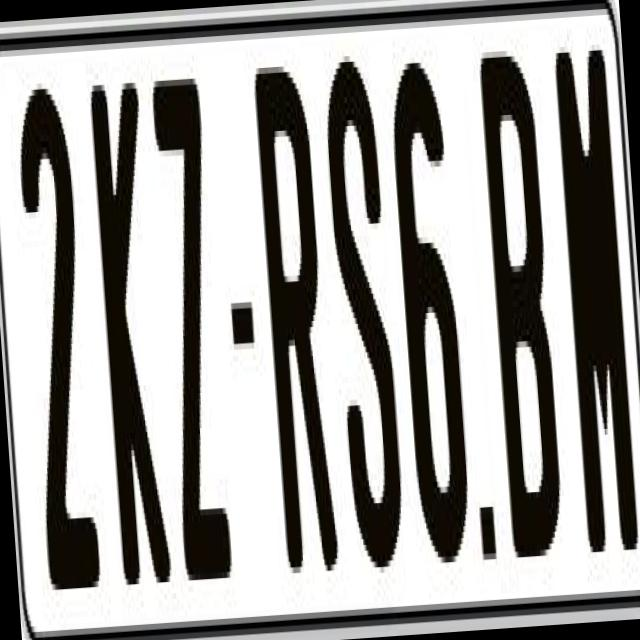2: (15, 80, 104, 590)
6: (388, 54, 478, 576)
B: (476, 43, 566, 552)
K: (89, 76, 178, 584)
M: (554, 44, 636, 575)
R: (250, 46, 342, 568)
S: (322, 59, 413, 591)
Z: (147, 60, 234, 586)
